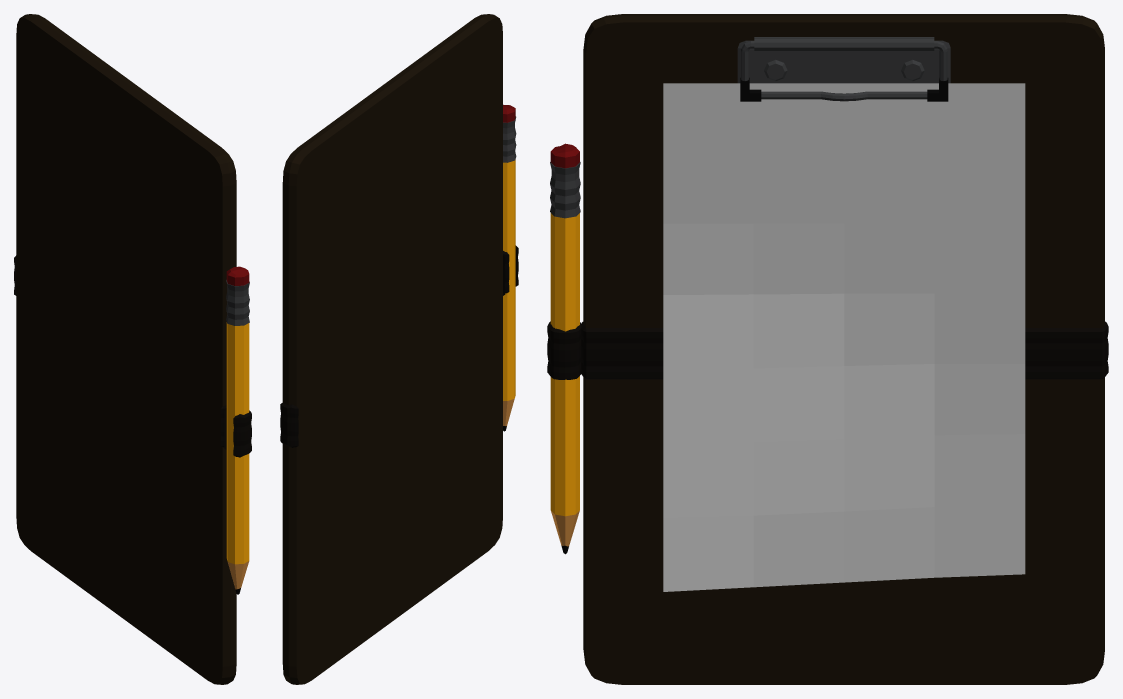
The model's file is LowPolyCheckList.obj.
The picture shows the model from 3 angles, left to right: view 1: azimuth 30°, elevation 25°; view 2: azimuth 150°, elevation 25°; view 3: azimuth 270°, elevation 25°; orthographic projection. The views are drawn at different scales.
Parts seen in each view (by area): view 1: Cube_Cube.001, Pencile_Cylinder.003, Cube.003; view 2: Cube_Cube.001, Pencile_Cylinder.003, Cube.002; view 3: Plane, Cube_Cube.001, Pencile_Cylinder.003, Cube.002, Plane.001, Cylinder, Cube.003, Cylinder.001.
Boxes of the visible parts, x1,y1,x2,y2 form: Cube_Cube.001: (16,14,236,684); Pencile_Cylinder.003: (226,266,249,594); Cube.003: (224,409,251,457); Cube_Cube.001: (282,14,502,684); Pencile_Cylinder.003: (503,104,516,431); Cube.002: (280,255,505,447); Plane: (663,83,1025,591); Cube_Cube.001: (583,14,1104,684); Pencile_Cylinder.003: (550,143,580,554); Cube.002: (581,321,1108,379); Plane.001: (737,40,950,83); Cylinder: (741,37,947,80); Cube.003: (547,321,581,379); Cylinder.001: (761,91,927,101).
Size of the model in its own units: 0.8948 by 9.13 by 6.97.
